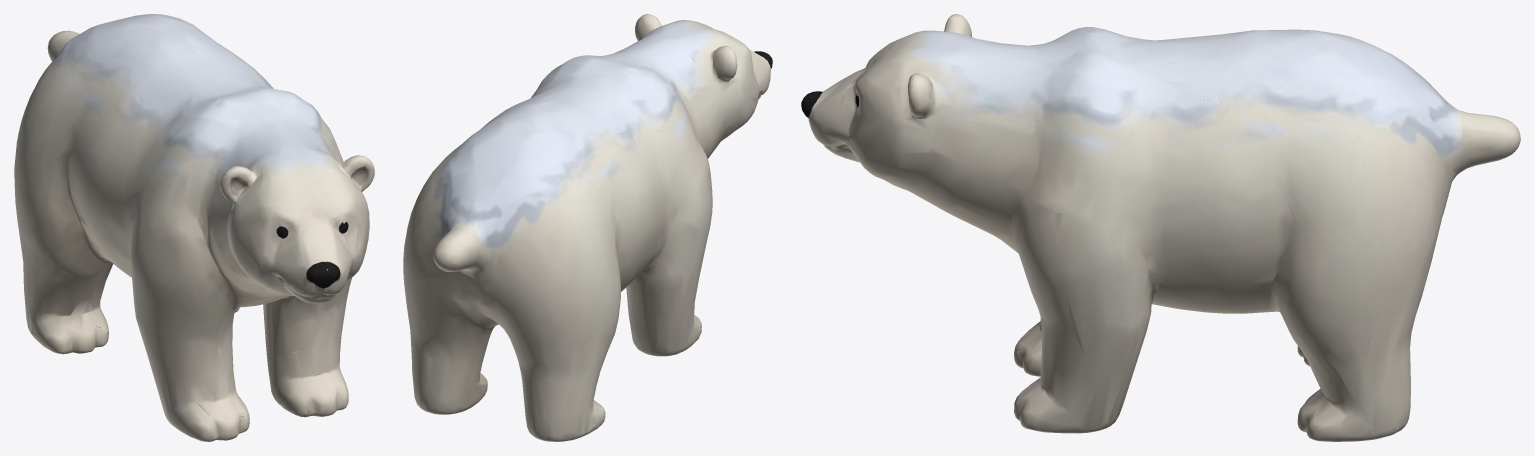
Rendered from polar-bear.glb.
The picture shows the model from 3 angles, left to right: view 1: azimuth 30°, elevation 25°; view 2: azimuth 150°, elevation 25°; view 3: azimuth 270°, elevation 25°; orthographic projection. The views are drawn at different scales.
Visible parts, largest first — view 1: Body, LegFR, LegFL, LegBR; view 2: Body, LegBR, LegBL, LegFR; view 3: Body, LegBL, LegFL, LegFR.
Part boxes in pixels (box(x1,y1,x2,y2)): Body: box(14, 14, 374, 348); LegFR: box(136, 306, 252, 441); LegFL: box(263, 287, 349, 417); LegBR: box(18, 224, 131, 354); Body: box(403, 14, 772, 370); LegBR: box(510, 291, 621, 441); LegBL: box(410, 312, 498, 414); LegFR: box(626, 265, 701, 356); Body: box(801, 14, 1520, 360); LegBL: box(1152, 296, 1421, 441); LegFL: box(1014, 296, 1168, 433); LegFR: box(1014, 318, 1041, 376).
Size of the model in its own units: 0.7427 by 1 by 1.85.
Materials: 1 (1 with a texture image).
